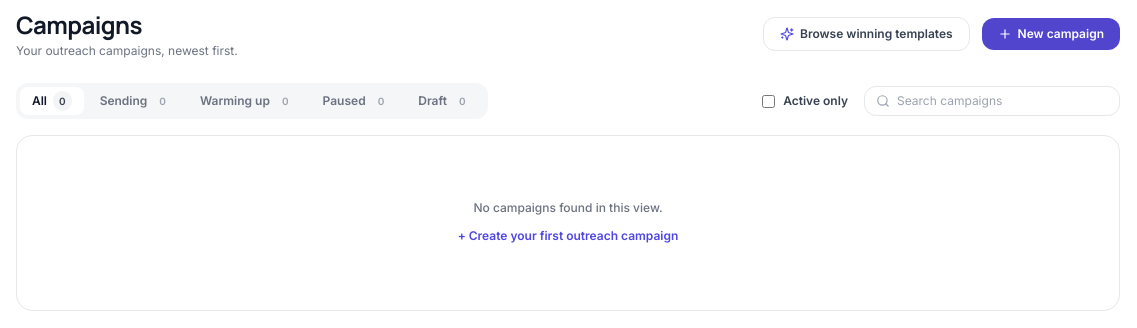
Scenario: requires dedicated native review while retaining ordinary Use
This screenshot has width=1137, height=328.
What coordinates should you click on to do the following:
click the button "Browse winning templates"
I would click on:
 (866, 34)
Its box is [763,17,970,51].
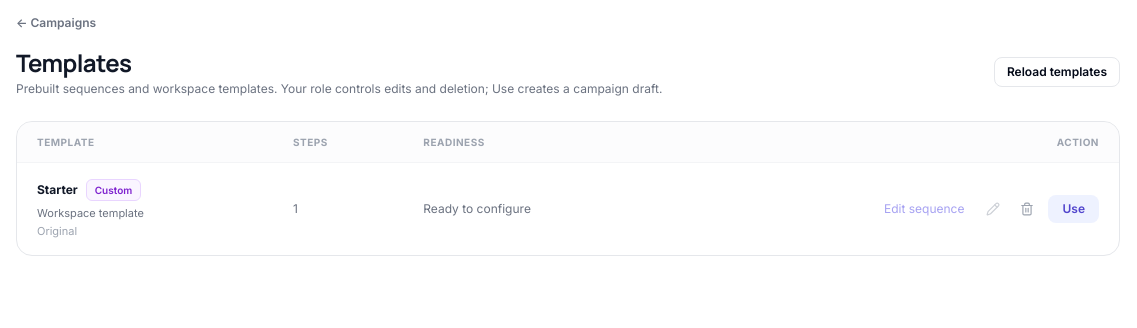
Expected: the button named "Edit template details Starter" is disabled, [980,196,1006,222]
Expected: the button "Use" is enabled, [1048,195,1099,223]
